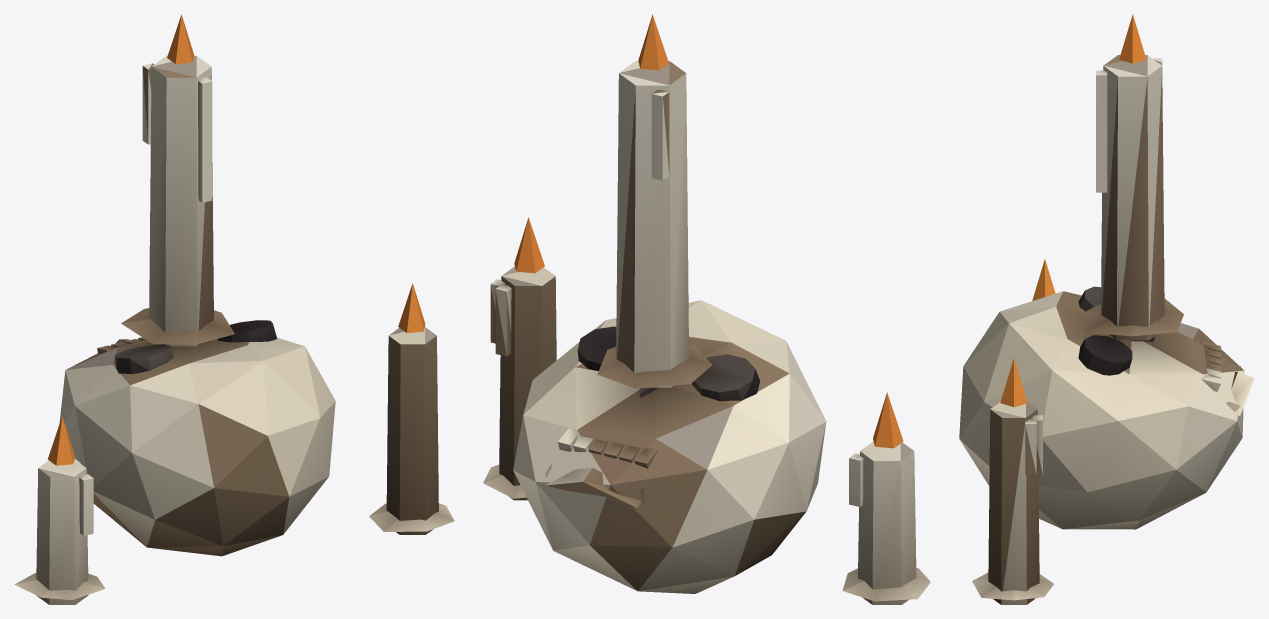
File: abyss_skull_candle.glb
3 renders of one model, left to right at view 1: azimuth 30°, elevation 25°; view 2: azimuth 150°, elevation 25°; view 3: azimuth 270°, elevation 25°, orthographic. The views are drawn at different scales.
Parts seen in each view (by area): view 1: ca_abyss_skull_candle; view 2: ca_abyss_skull_candle; view 3: ca_abyss_skull_candle.
Part boxes in pixels (bbox=[...]): ca_abyss_skull_candle: bbox=[14, 14, 454, 604]; ca_abyss_skull_candle: bbox=[483, 14, 930, 604]; ca_abyss_skull_candle: bbox=[959, 14, 1254, 604].
Bounding box in the file's own units: 1.03 × 1.24 × 0.6619.
1 material, 1 textured.
